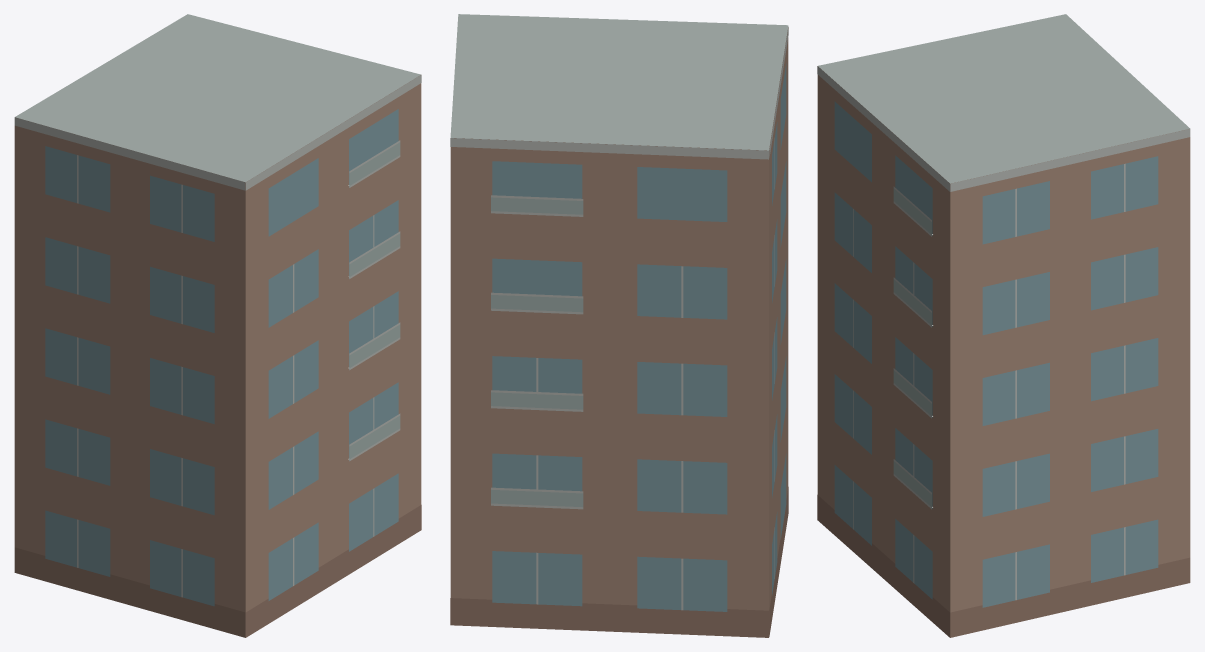
The model's file is survey-upis-32961212.glb.
3 views of the same model, side by side, from view 1: azimuth 30°, elevation 25°; view 2: azimuth 150°, elevation 25°; view 3: azimuth 270°, elevation 25° (orthographic). The views are drawn at different scales.
Visible parts, largest first — view 1: survey-upis-32961212.tmp; view 2: survey-upis-32961212.tmp; view 3: survey-upis-32961212.tmp.
Boxes of the visible parts, x1,y1,x2,y2 form: survey-upis-32961212.tmp: (14,14,421,637); survey-upis-32961212.tmp: (450,14,788,637); survey-upis-32961212.tmp: (817,14,1190,637).
Size of the model in its own units: 10.58 by 13.2 by 9.83.
